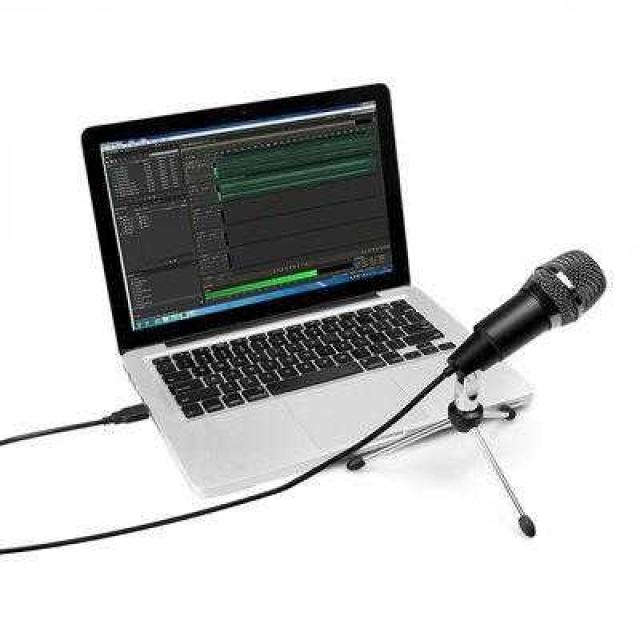microphone: (445, 248, 606, 384)
